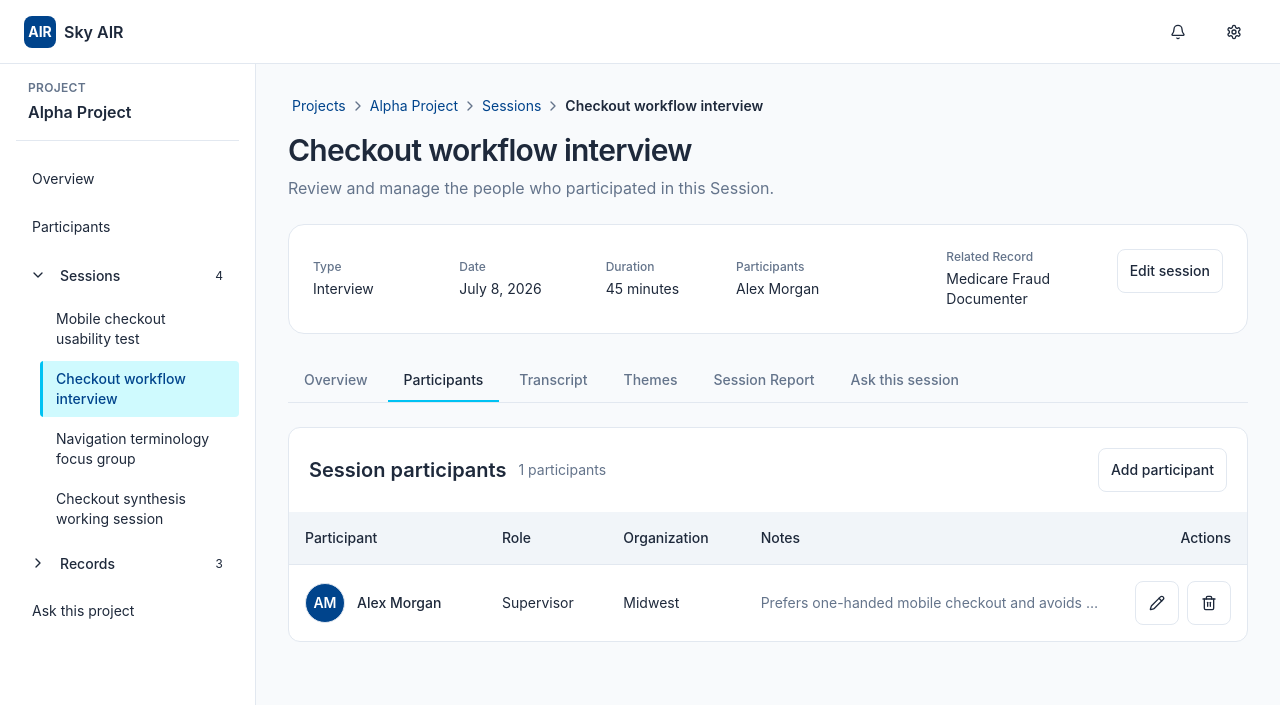
Test: application router foundation › edits a Session participant and returns to the Session Participants tab
Check: the heading "Checkout workflow interview" is shown, box [288, 132, 692, 168]
Check: the heading "Session participants" is shown, box [309, 456, 506, 484]
Click the button named "Edit participant:": (1157, 603) [1135, 581, 1179, 625]
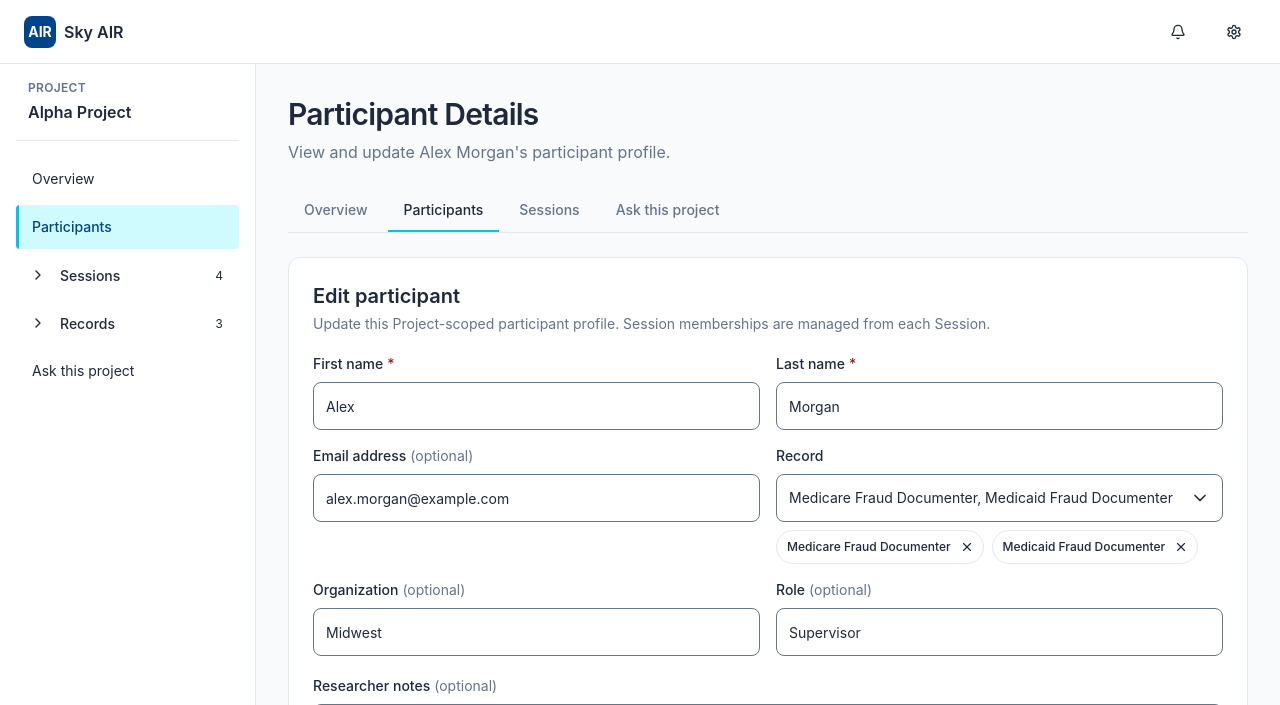
Check: the heading "Participant Details" is shown, box [288, 96, 539, 132]
Replace the text in the field labelled "First name*" with "Alexa": (536, 406) [314, 383, 759, 429]
(page scrolled)
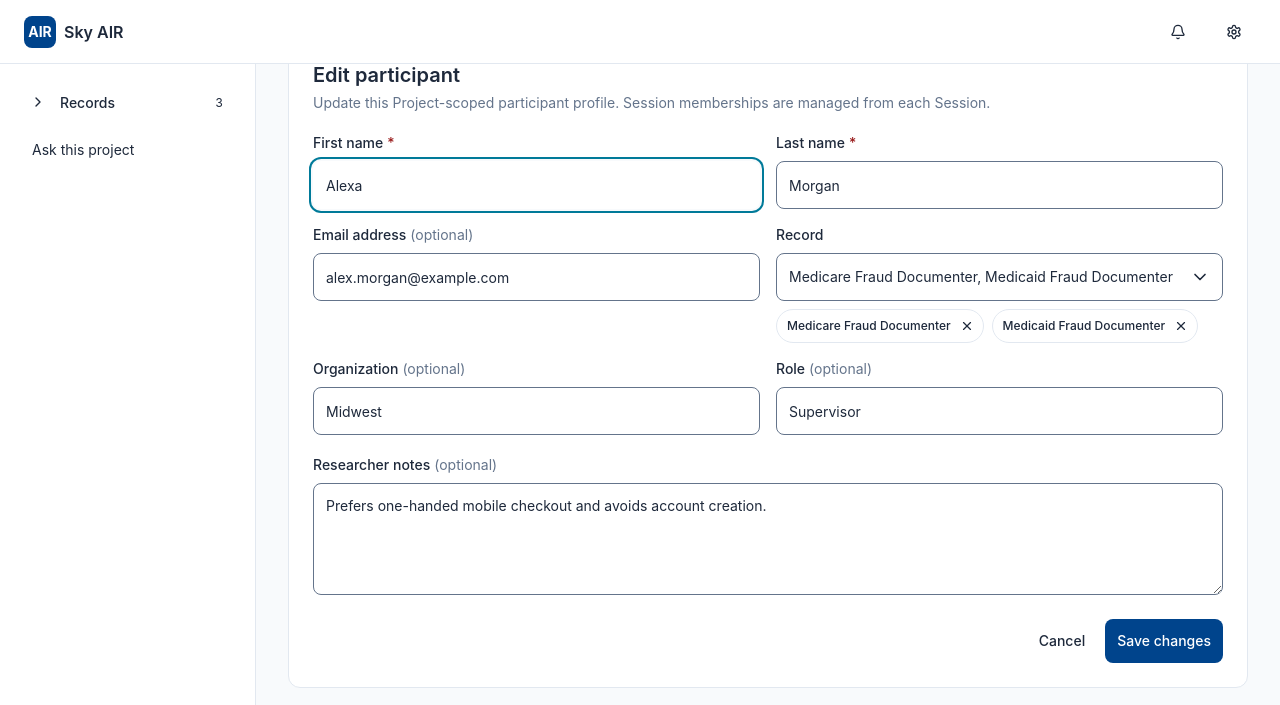
Click the button "Save changes": (1164, 641) [1105, 619, 1223, 663]
(page scrolled)
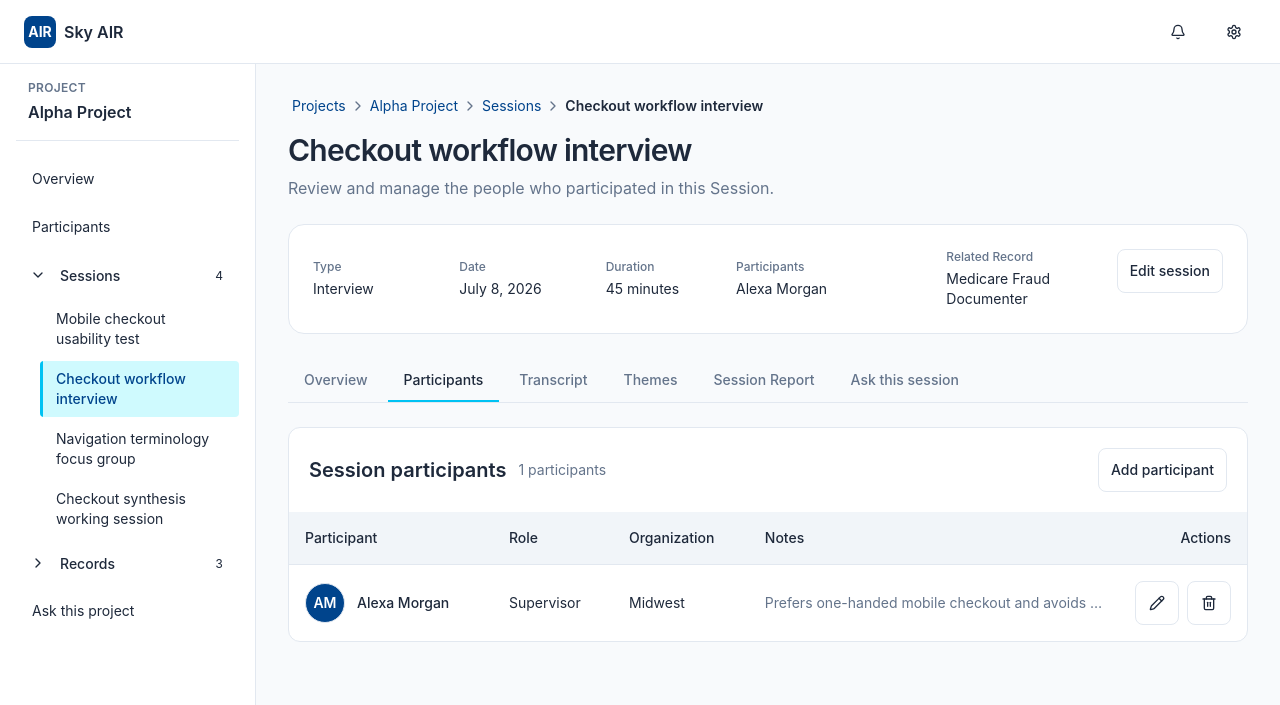
Check: the heading "Session participants" is shown, box [309, 456, 506, 484]
